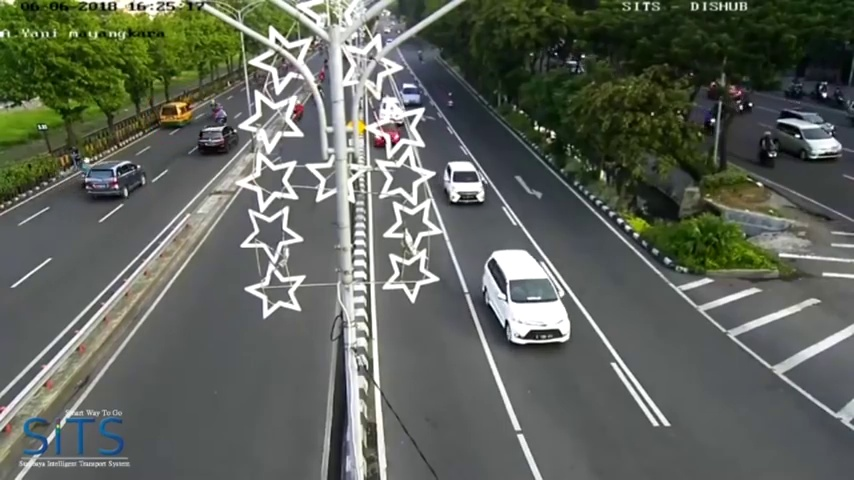car: (480, 247, 573, 350), (774, 116, 839, 164), (86, 160, 149, 201), (440, 159, 484, 207), (199, 125, 240, 155), (159, 100, 194, 127), (401, 82, 421, 107)
motorbike: (759, 128, 779, 164)
